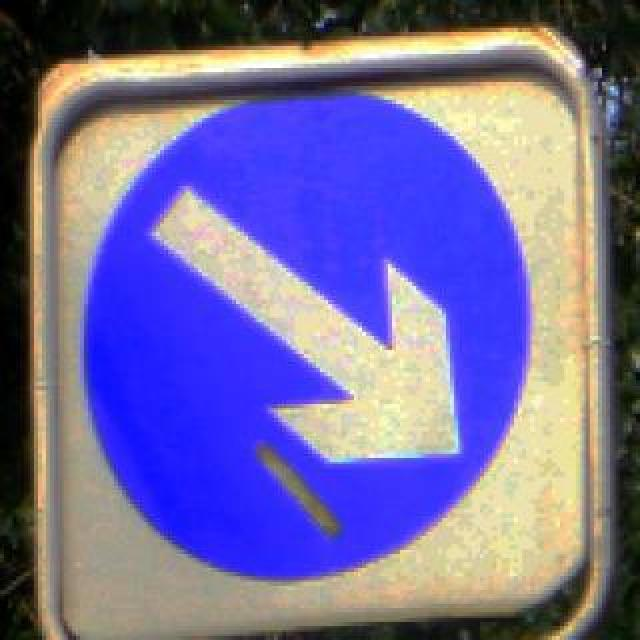keep right: (68, 86, 548, 594)
